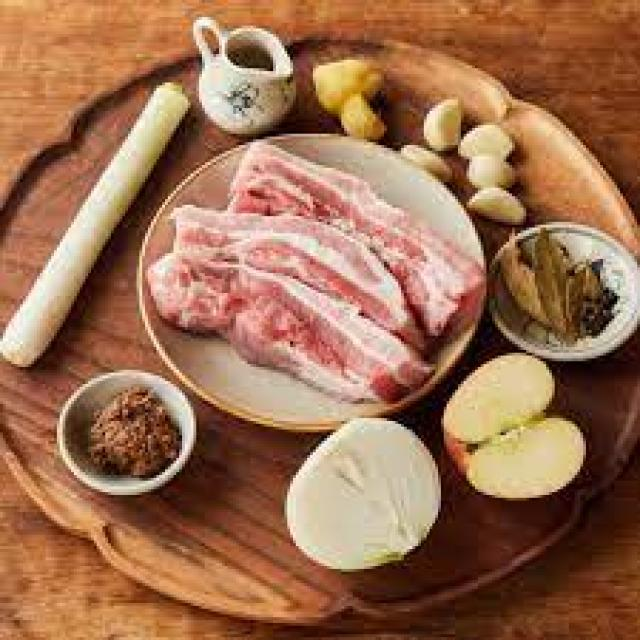Pork: (225, 140, 483, 340), (148, 251, 433, 407), (174, 206, 423, 353)
